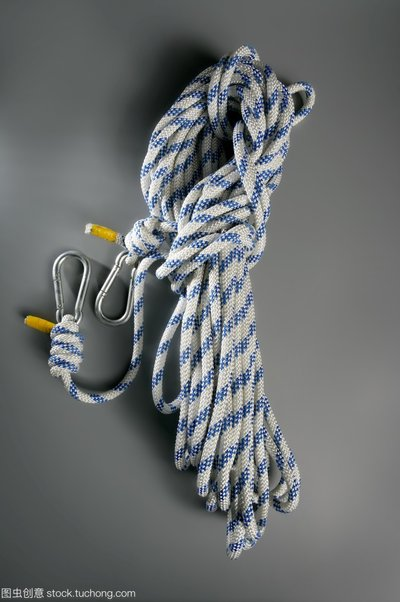9/可回收垃圾/绳子: (22, 43, 317, 561)
